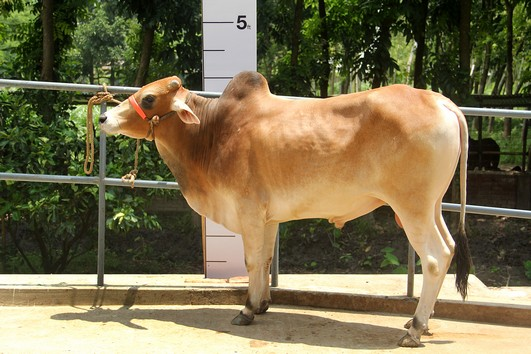cow: (88, 71, 483, 341)
